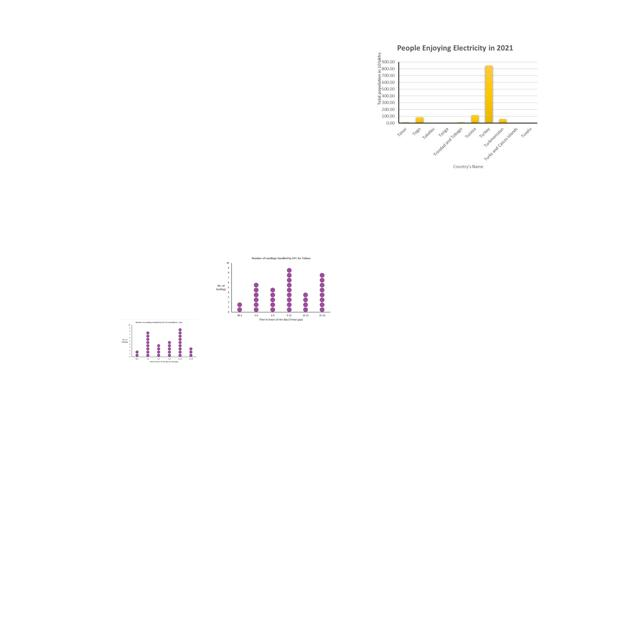Graph: (369, 43, 542, 175), (212, 254, 333, 324), (119, 319, 198, 365)
